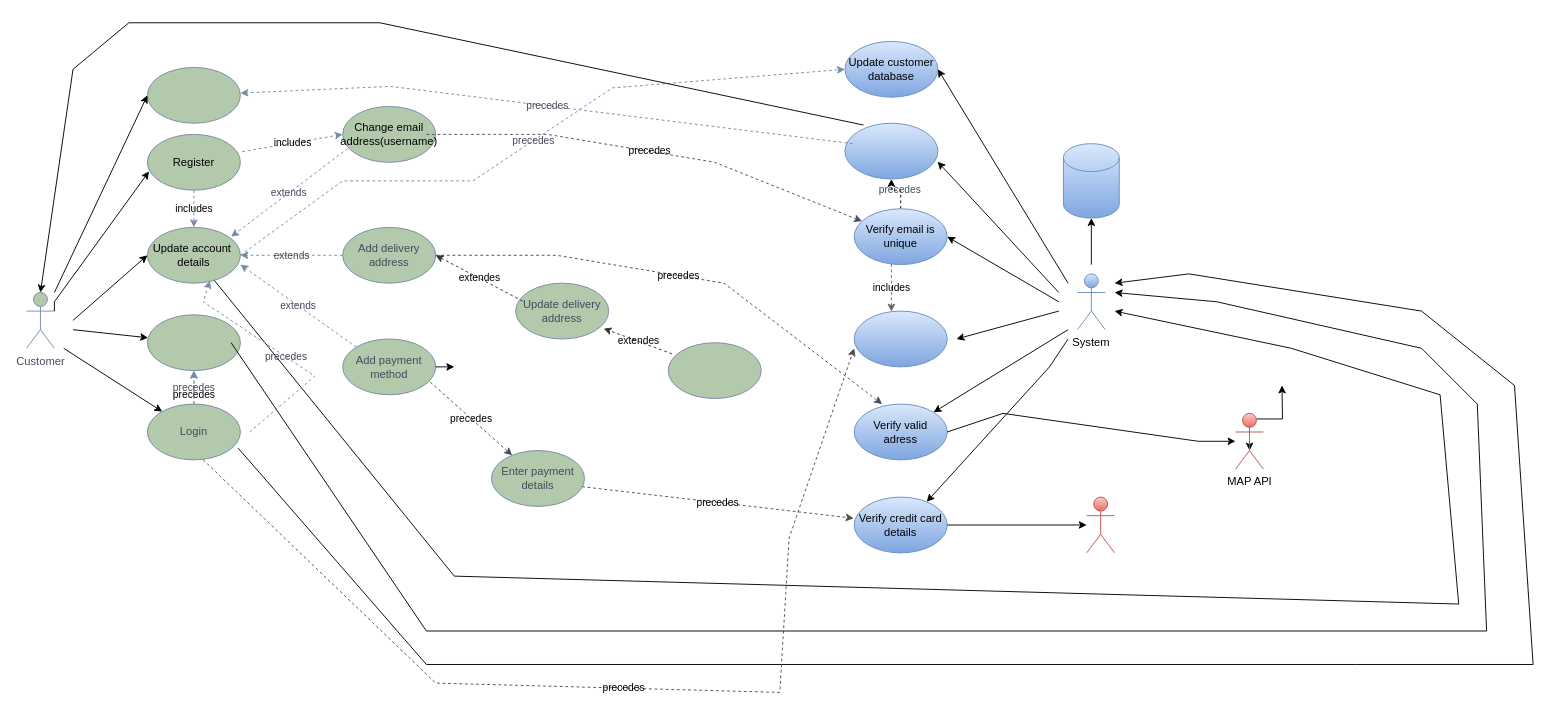
Image size: 1557x716. Some labels were removed from this diagram. Each missing label, with the centre of its shape:
Check for existing account: [900,338]
Confirm email address: [193,94]
Customer database: [1091,180]
Delete delivery address: [714,370]
Send confirmation link via email: [891,150]
Third-party payment verification service: [1100,524]
View account: [193,342]
